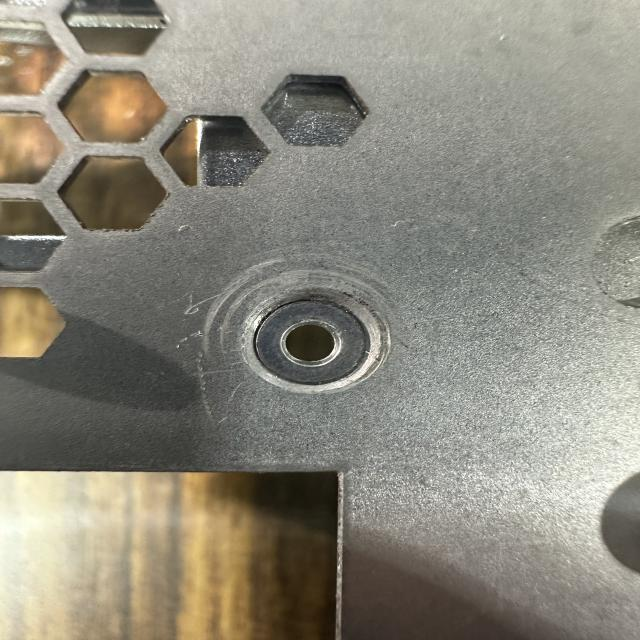Missing screw: (241, 286, 395, 402)
